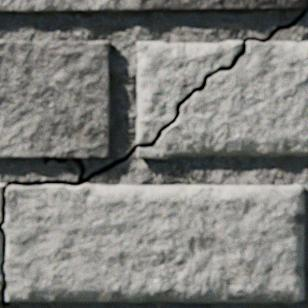brick: (0, 41, 111, 158), (0, 0, 306, 13)
broken_brick: (4, 183, 304, 301), (137, 41, 307, 158), (137, 41, 242, 143), (0, 229, 5, 299), (0, 183, 6, 222)
crack: (0, 0, 307, 306)
